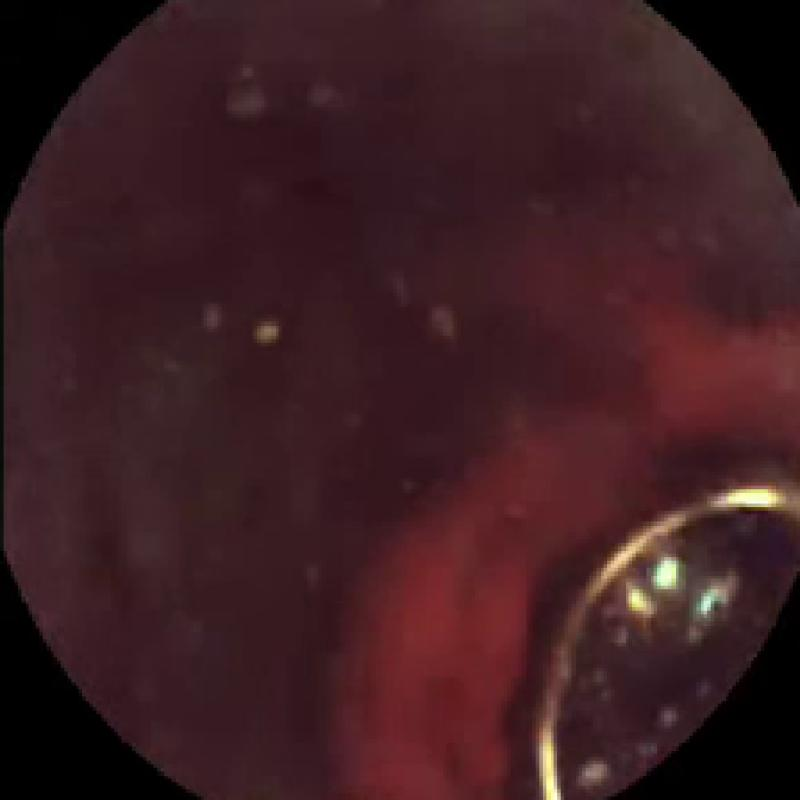bleeding: (336, 243, 793, 800)
